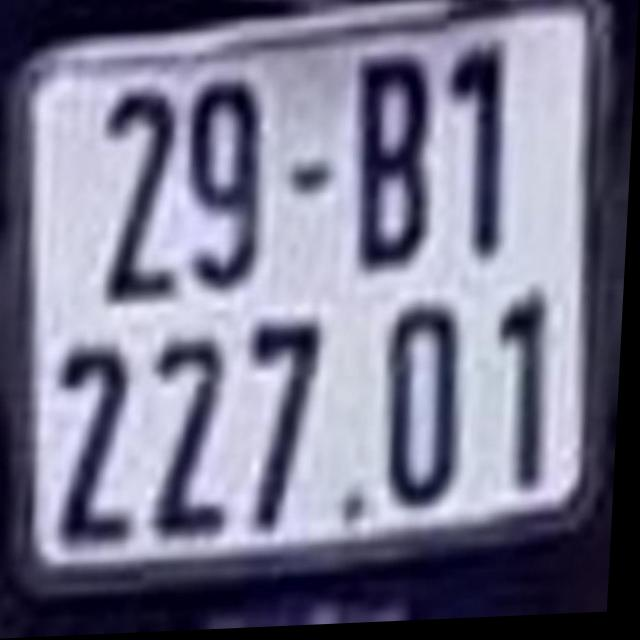0: (389, 305, 471, 513)
1: (445, 40, 513, 267), (492, 293, 559, 503)
2: (99, 84, 186, 307), (56, 340, 143, 542), (156, 339, 240, 534)
7: (248, 322, 323, 532)
9: (188, 80, 268, 289)
B: (352, 58, 438, 269)
